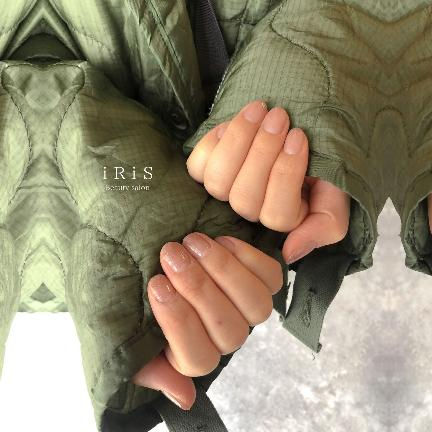Nail: (159, 242, 190, 273), (148, 275, 175, 303), (182, 233, 210, 259), (286, 240, 316, 264), (262, 107, 286, 134), (282, 127, 304, 154), (242, 100, 267, 123), (160, 391, 188, 410), (213, 236, 234, 252), (216, 121, 229, 139)
